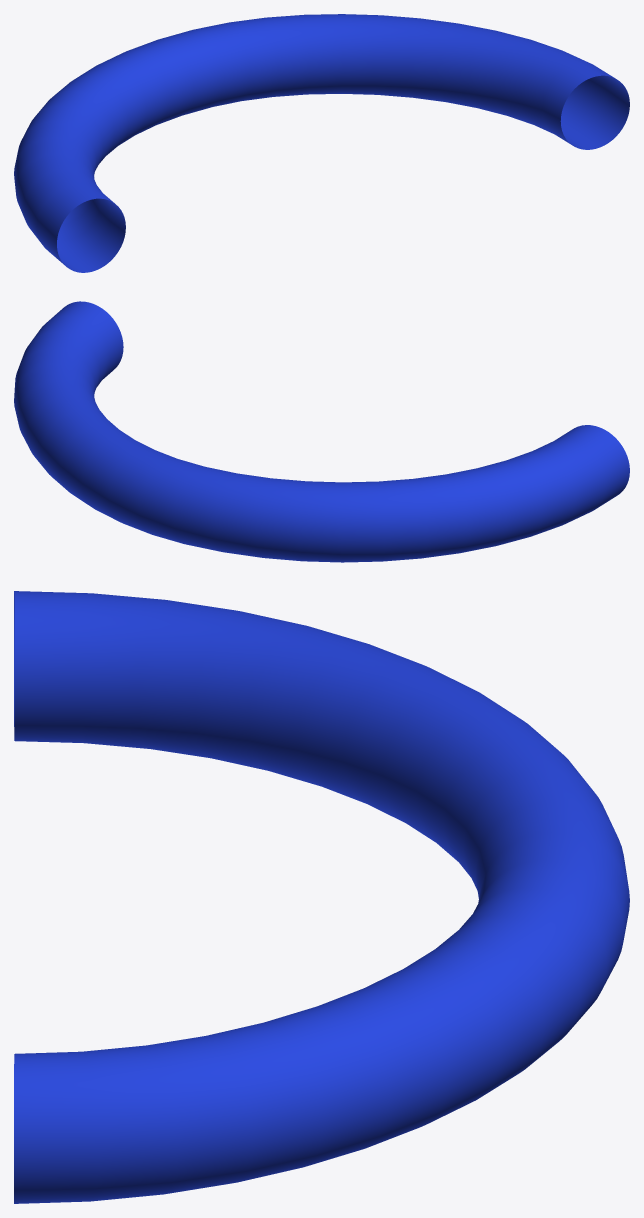
The model's file is lattice_bar_geometry.dae.
3 renders of one model, top to bottom at view 1: azimuth 30°, elevation 25°; view 2: azimuth 150°, elevation 25°; view 3: azimuth 270°, elevation 25°, orthographic. The views are drawn at different scales.
Parts seen in each view (by area): view 1: bar_01_collision; view 2: bar_01_collision; view 3: bar_01_collision.
Boxes of the visible parts, x1,y1,x2,y2 form: bar_01_collision: [14, 14, 629, 272]; bar_01_collision: [14, 301, 629, 562]; bar_01_collision: [14, 591, 629, 1203].
Bounding box in the file's own units: 2.27 × 1.12 × 0.2743.
